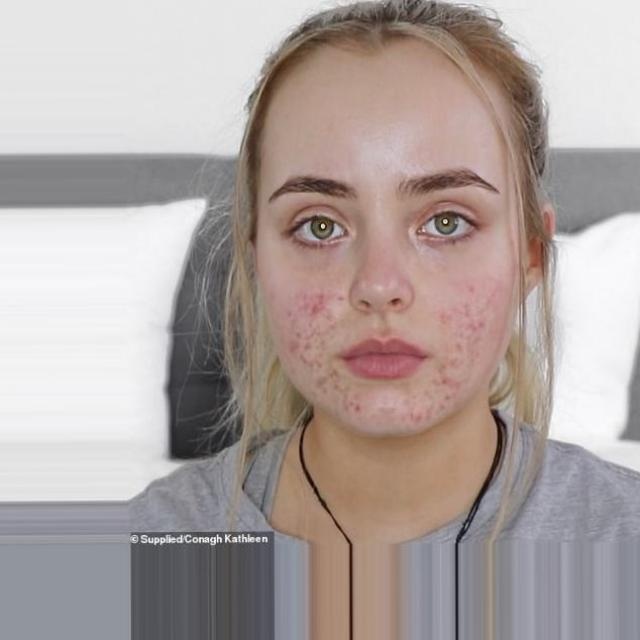Acne: (283, 293, 333, 377), (454, 293, 496, 377)
